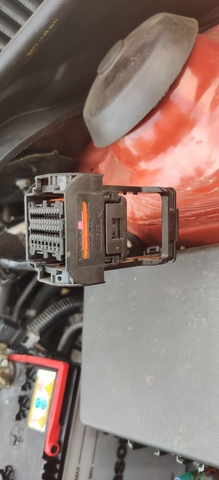connector: (25, 172, 128, 285)
